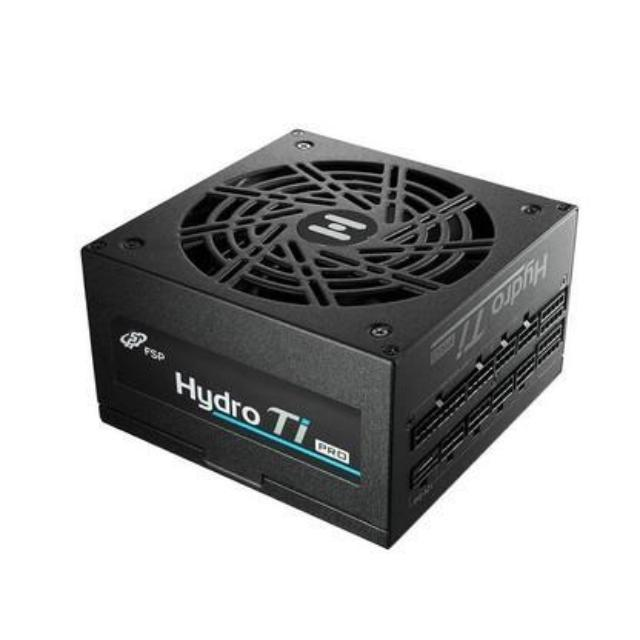PSU: (66, 118, 594, 564)
